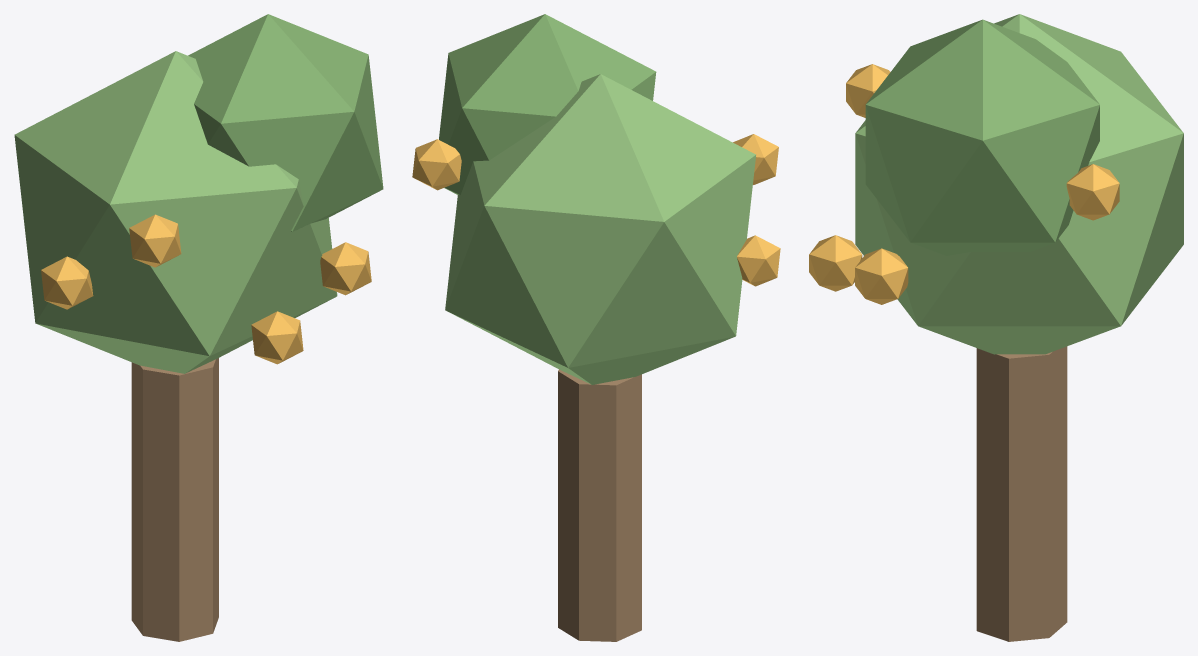
The model's file is tree_fruit_orange.glb.
3 views of the same model, side by side, from view 1: azimuth 30°, elevation 25°; view 2: azimuth 150°, elevation 25°; view 3: azimuth 270°, elevation 25° (orthographic). The views are drawn at different scales.
Parts seen in each view (by area): view 1: tree_fruit; view 2: tree_fruit; view 3: tree_fruit.
Part boxes in pixels (x1,y1,x2,y2): tree_fruit: (14,14,383,641); tree_fruit: (412,14,780,641); tree_fruit: (809,14,1183,641).
Size of the model in its own units: 2.22 by 3.85 by 2.04.
